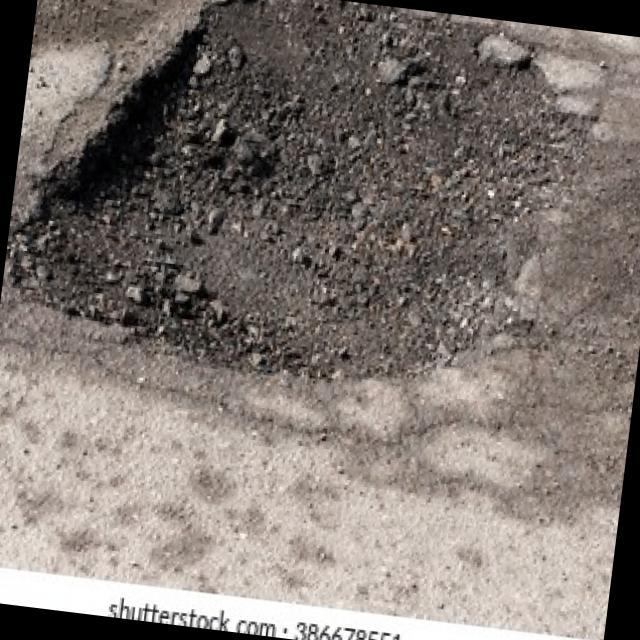Pothole: (0, 0, 601, 423)
